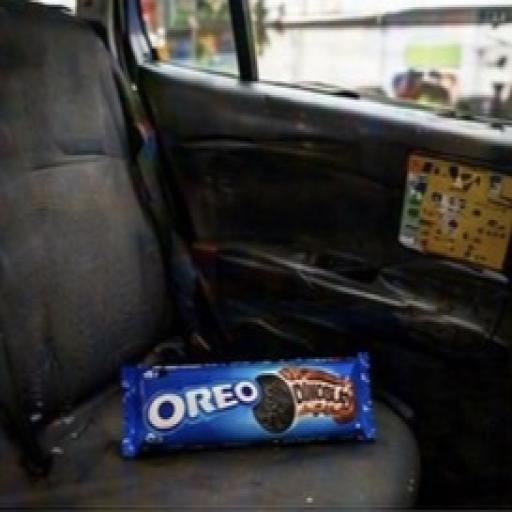oreo: (94, 313, 406, 476)
